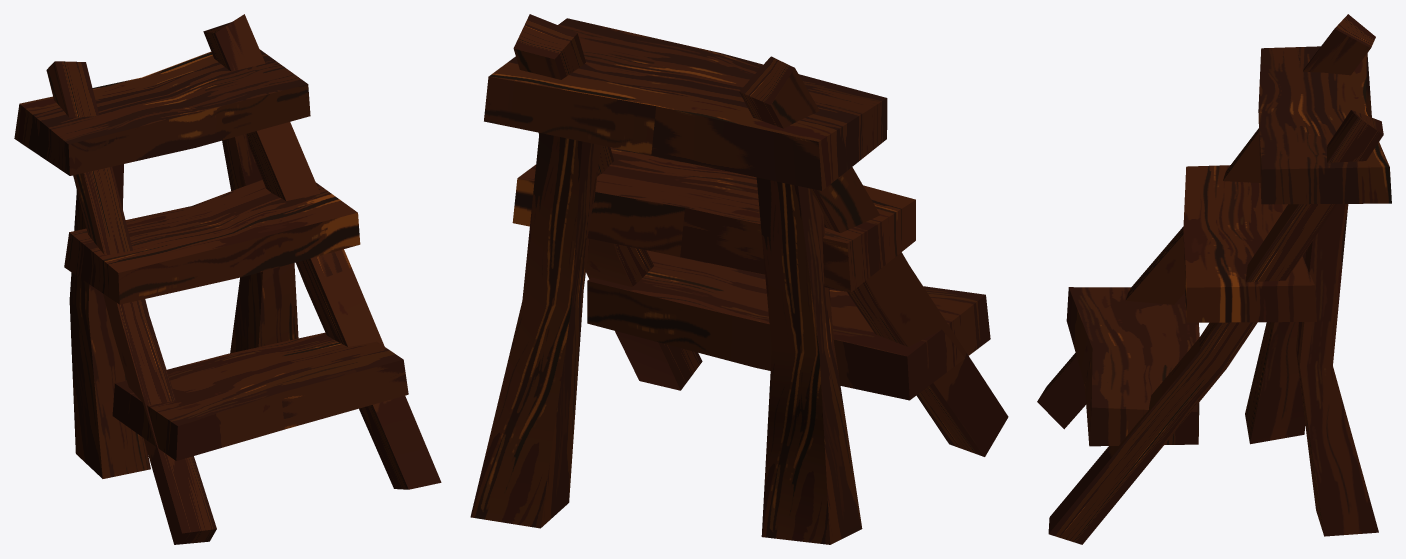
Rendered from SM_PROP_stepladder.fbx.
The picture shows the model from 3 angles, left to right: view 1: azimuth 30°, elevation 25°; view 2: azimuth 150°, elevation 25°; view 3: azimuth 270°, elevation 25°; orthographic projection. The views are drawn at different scales.
Parts seen in each view (by area): view 1: SM_PROP_stepladder; view 2: SM_PROP_stepladder; view 3: SM_PROP_stepladder.
Part boxes in pixels (<box>): SM_PROP_stepladder: <box>14,14,441,544</box>; SM_PROP_stepladder: <box>470,14,1008,544</box>; SM_PROP_stepladder: <box>1037,14,1391,544</box>.
Bounding box in the file's own units: 56.34 × 75.94 × 60.13.
